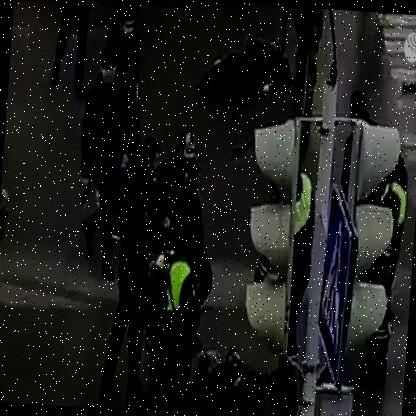rifle: (77, 176, 92, 211)
